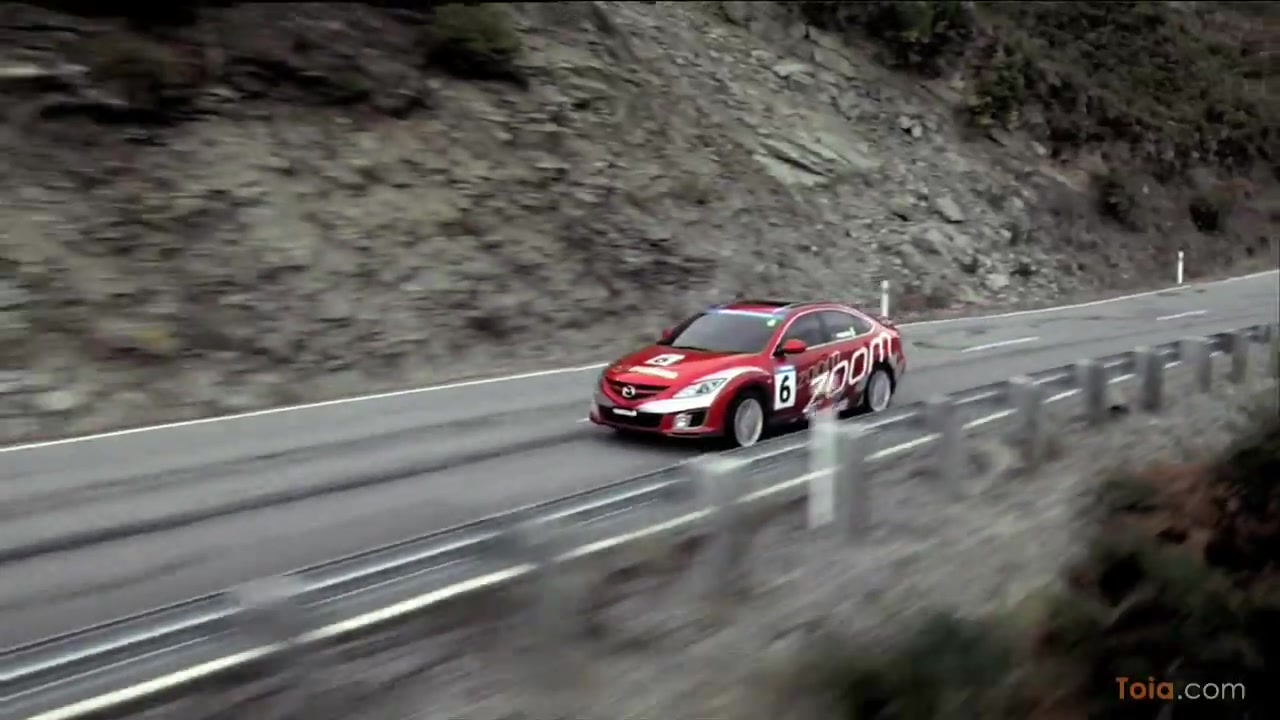car: (585, 295, 909, 452)
